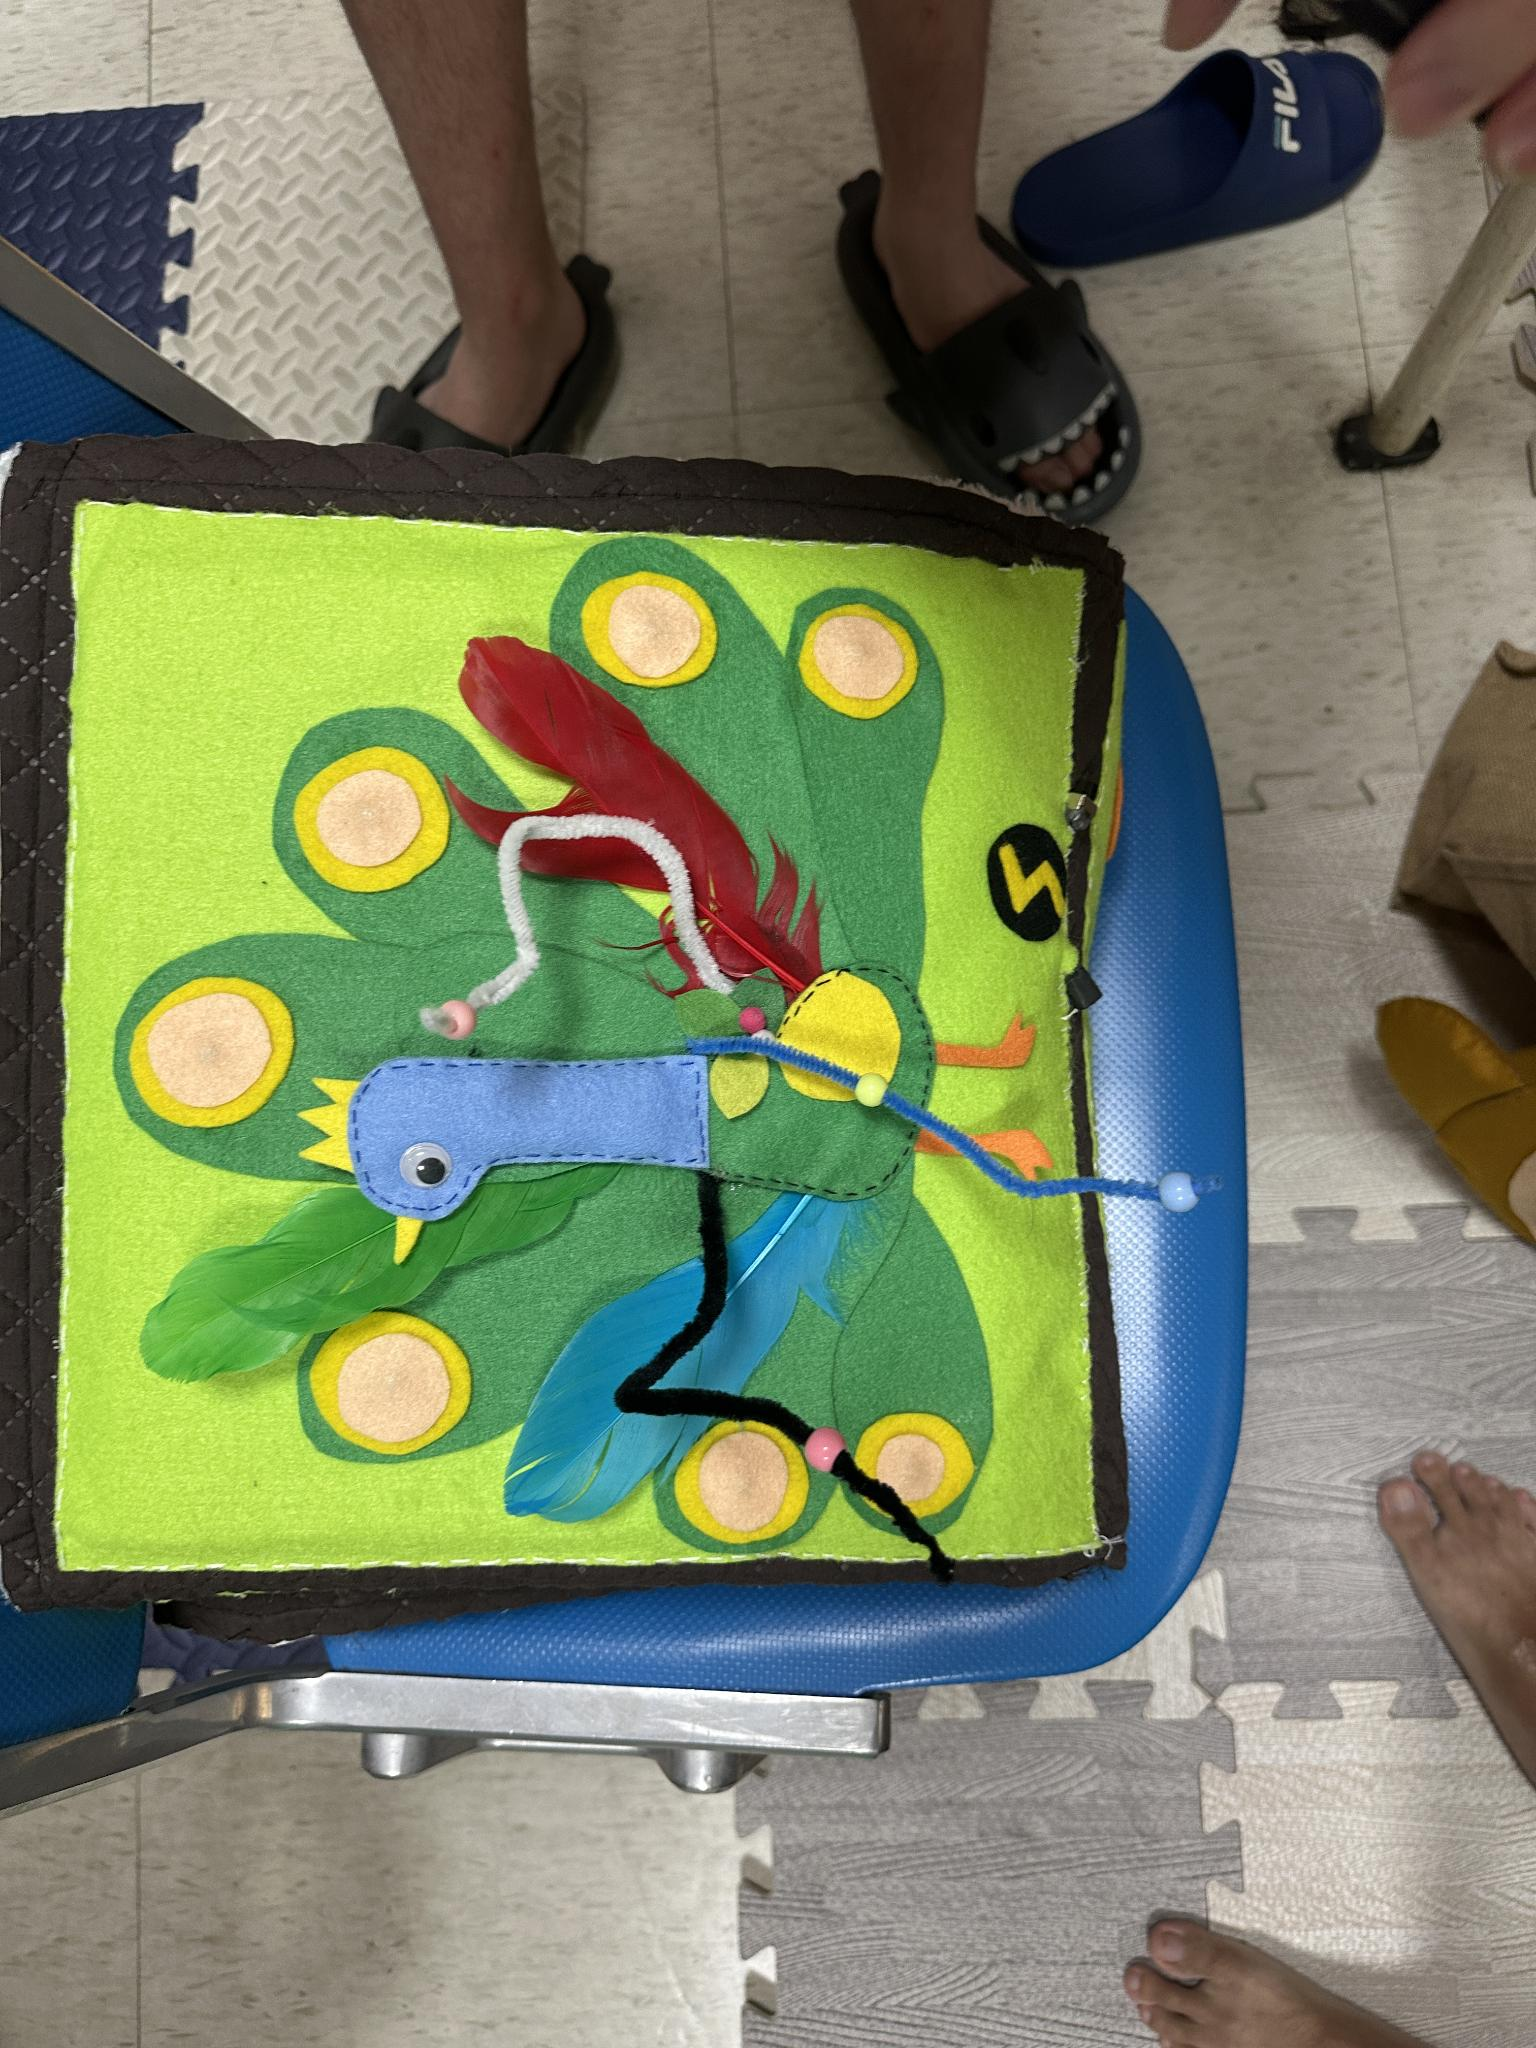bead: (1142, 1161, 1205, 1234), (803, 1409, 850, 1469), (428, 989, 482, 1030), (854, 1074, 897, 1119)
